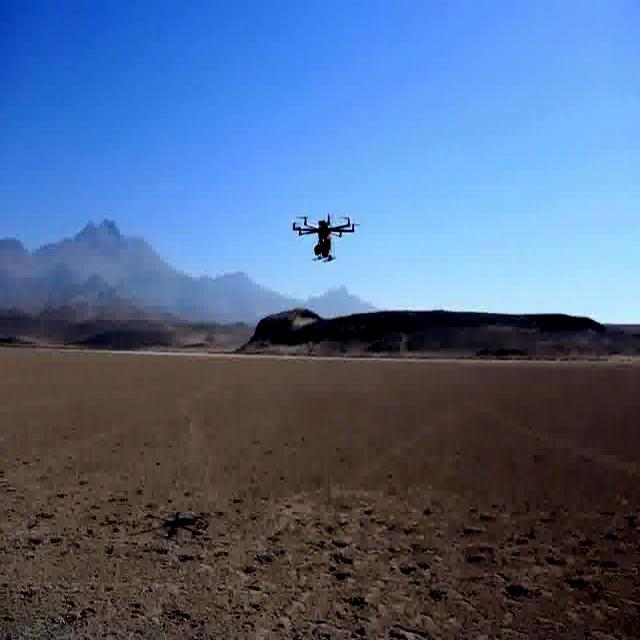drone: (288, 209, 358, 267)
